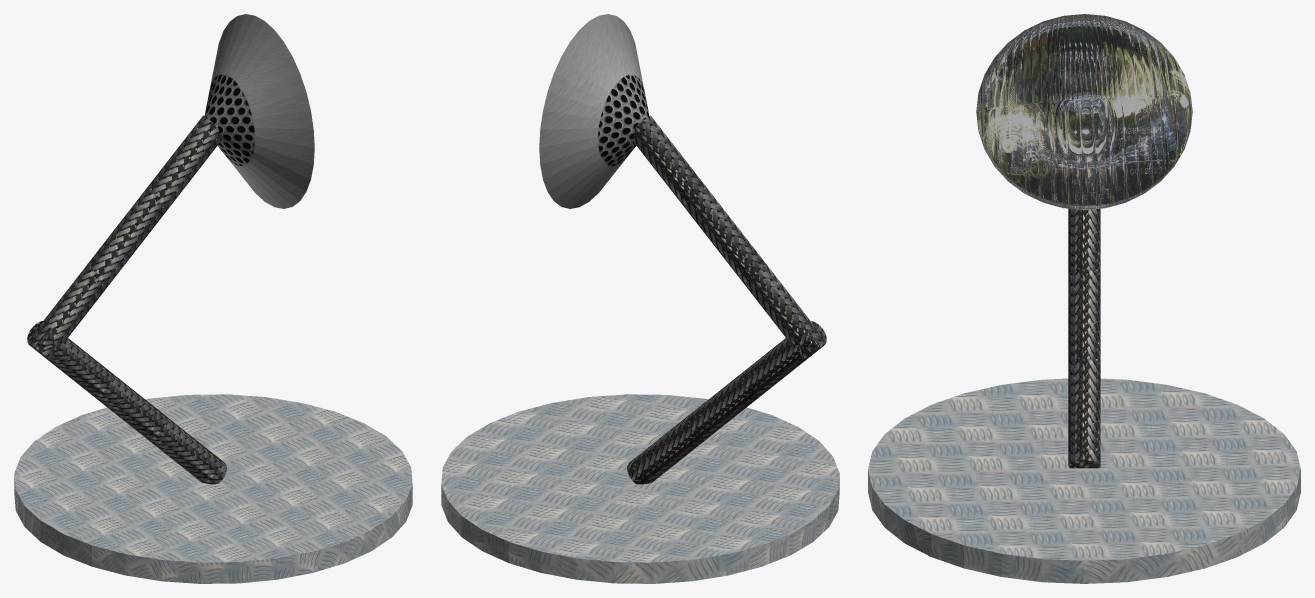
File: luxo.dae
3 views of the same model, side by side, from view 1: azimuth 30°, elevation 25°; view 2: azimuth 150°, elevation 25°; view 3: azimuth 270°, elevation 25° (orthographic). The views are drawn at different scales.
Parts seen in each view (by area): view 1: base, head, braco_2, braco_1; view 2: base, head, braco_2, braco_1; view 3: base, head, braco_1.
Part boxes in pixels (box(x1,y1,x2,y2)): base: box(14, 394, 412, 583); head: box(204, 14, 314, 208); braco_2: box(27, 115, 220, 359); braco_1: box(27, 321, 226, 484); base: box(441, 394, 839, 583); head: box(539, 14, 649, 208); braco_2: box(633, 115, 826, 359); braco_1: box(627, 321, 826, 484); base: box(868, 378, 1300, 583); head: box(976, 14, 1192, 209); braco_1: box(1068, 208, 1100, 468).
Size of the model in its own units: 8.26 by 8.01 by 10.33.
Materials: 3 (3 with a texture image).
